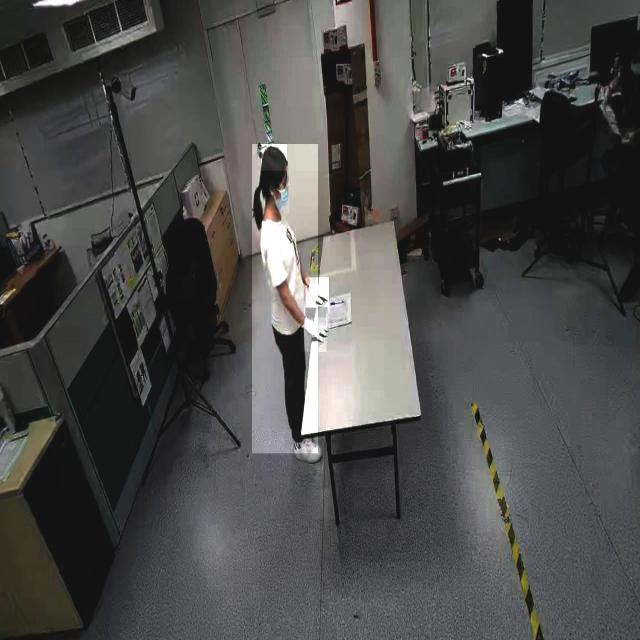face_mask: (269, 180, 289, 213)
hand_glove: (300, 317, 326, 353), (305, 278, 329, 308)
hand_noglove: (600, 85, 612, 112), (620, 128, 634, 145)
head_nohelmet: (261, 144, 287, 172)
person: (252, 144, 318, 454)
shoes: (289, 429, 325, 472)
